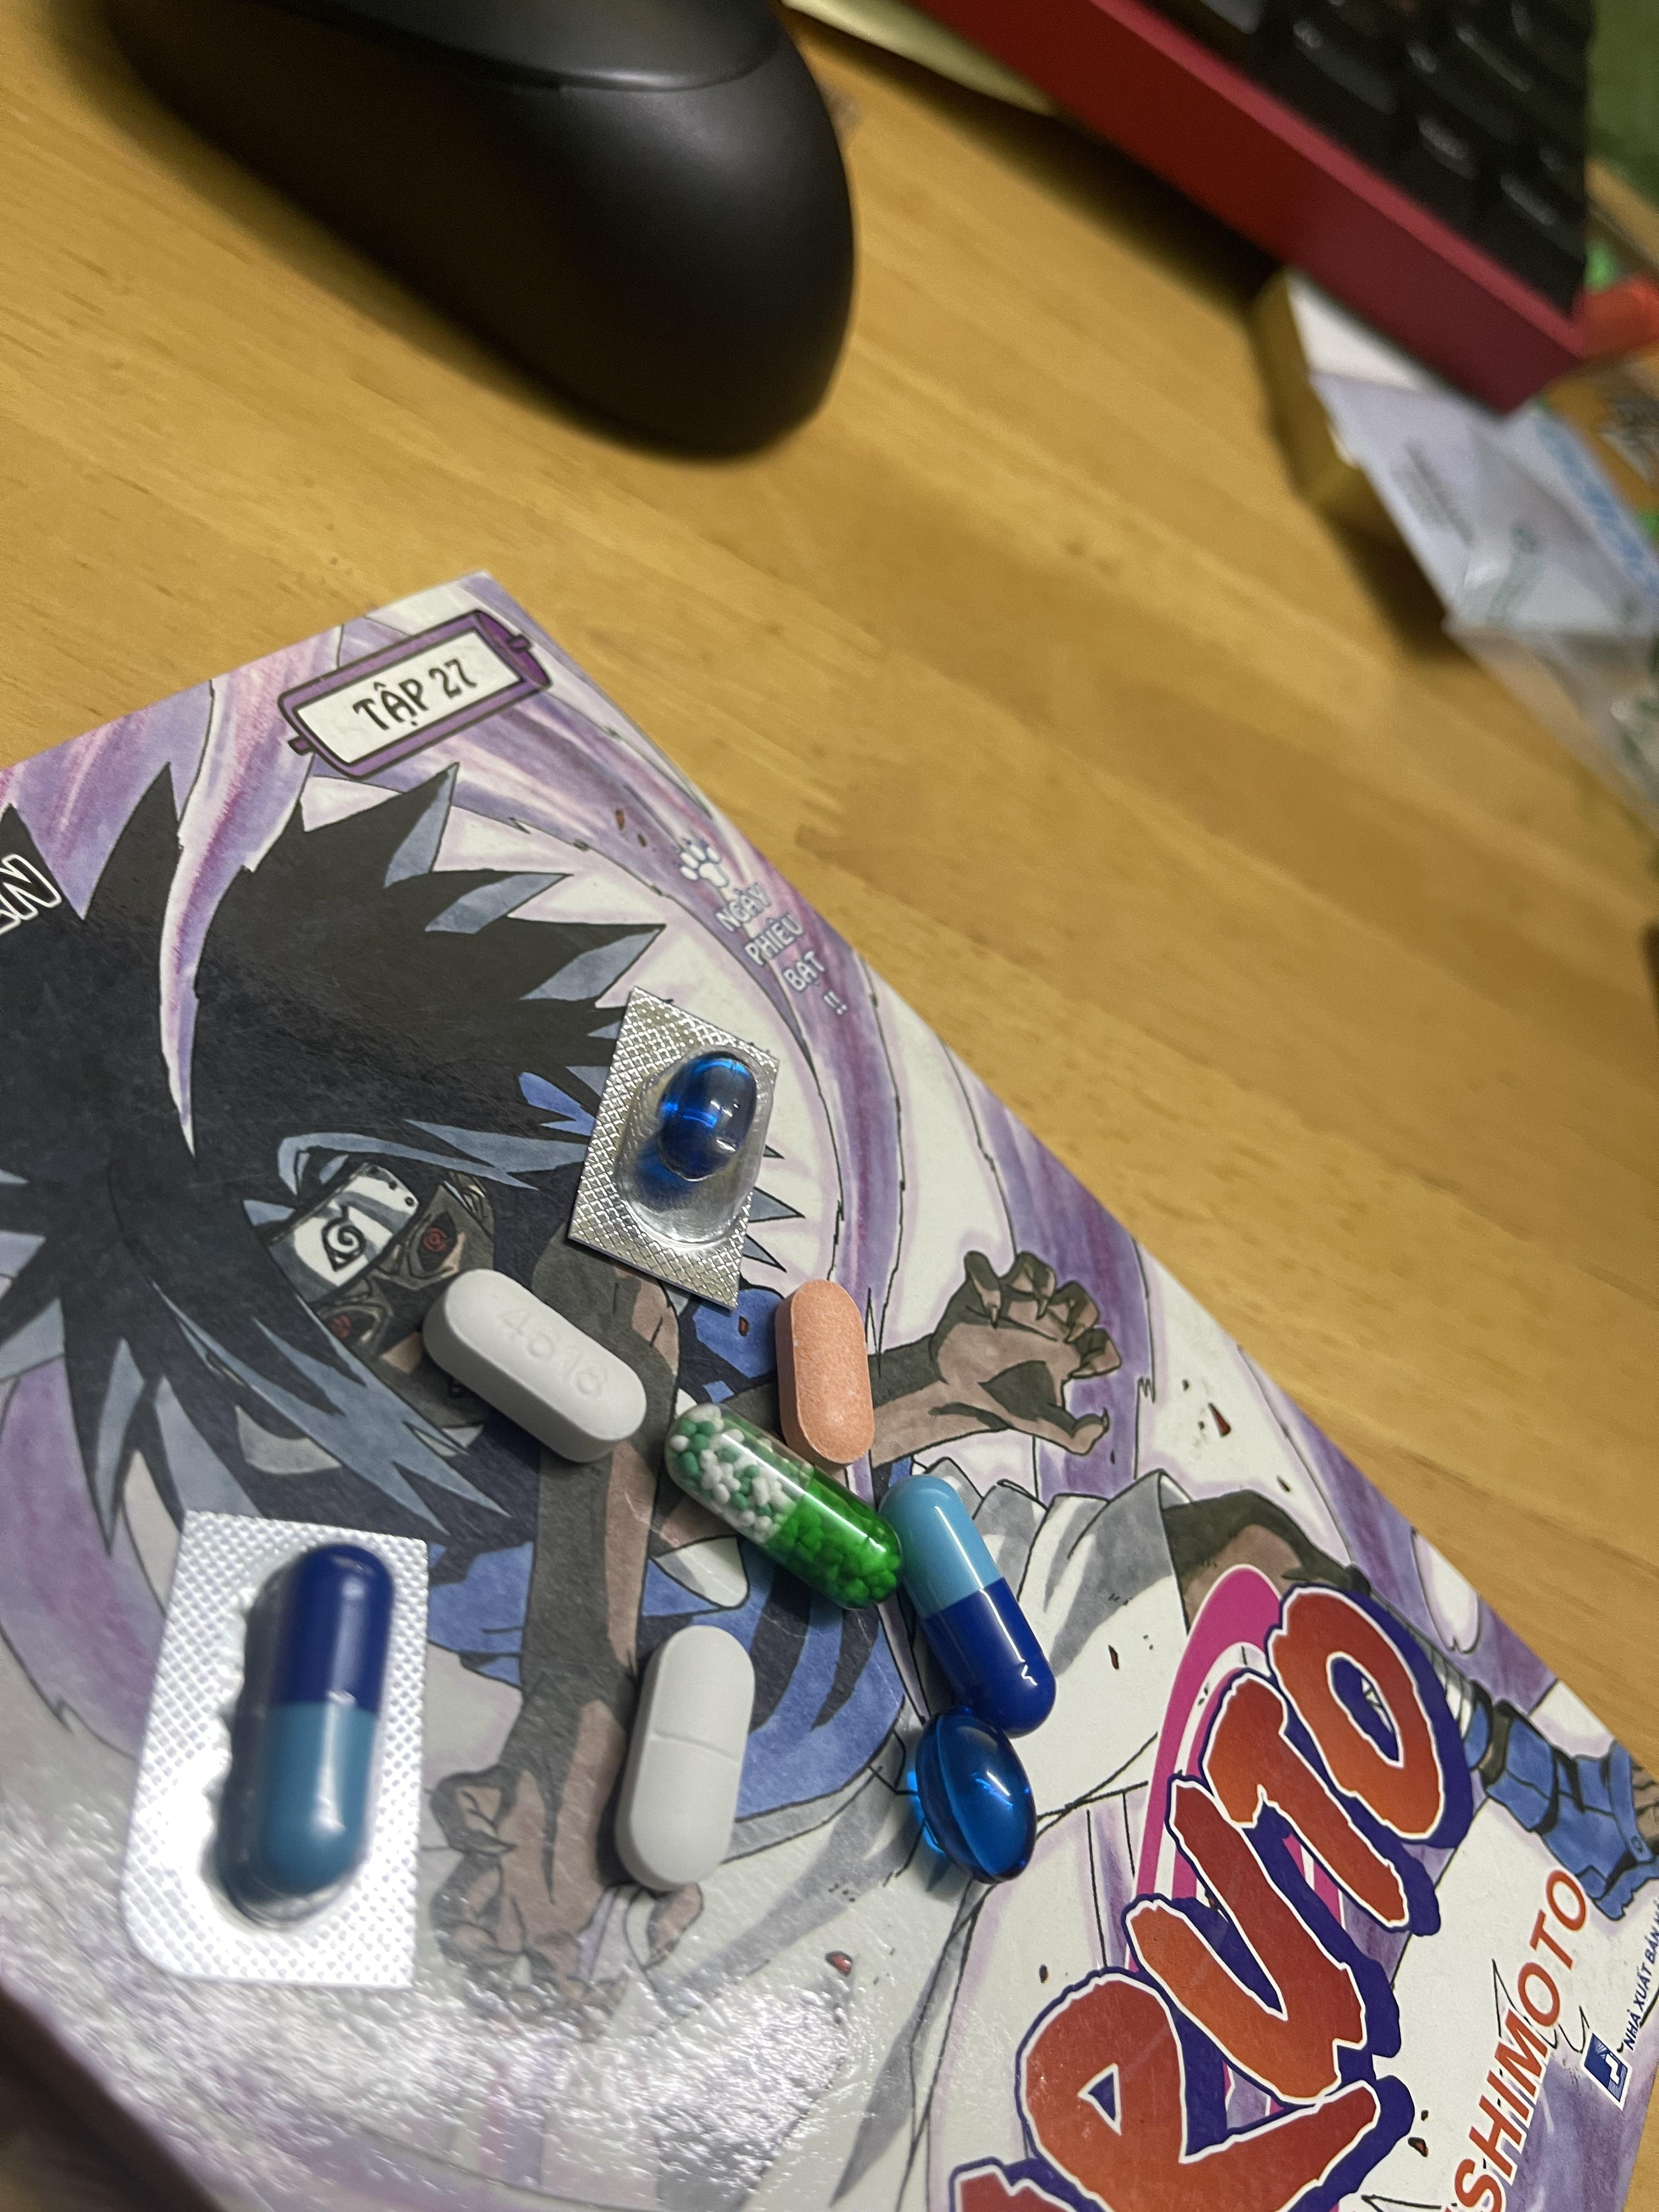Lincomyxin_500mg: (910, 1705, 1037, 1879), (657, 1055, 756, 1176)
Loratadine_10mg: (777, 1280, 875, 1465)
Paracetamol_350mg: (612, 1623, 755, 1895)
Paracetamol_500mg: (425, 1264, 653, 1461)
Paracetamol_650mg: (664, 1397, 901, 1613)
pill: (213, 1554, 390, 1919), (877, 1460, 1032, 1712)
